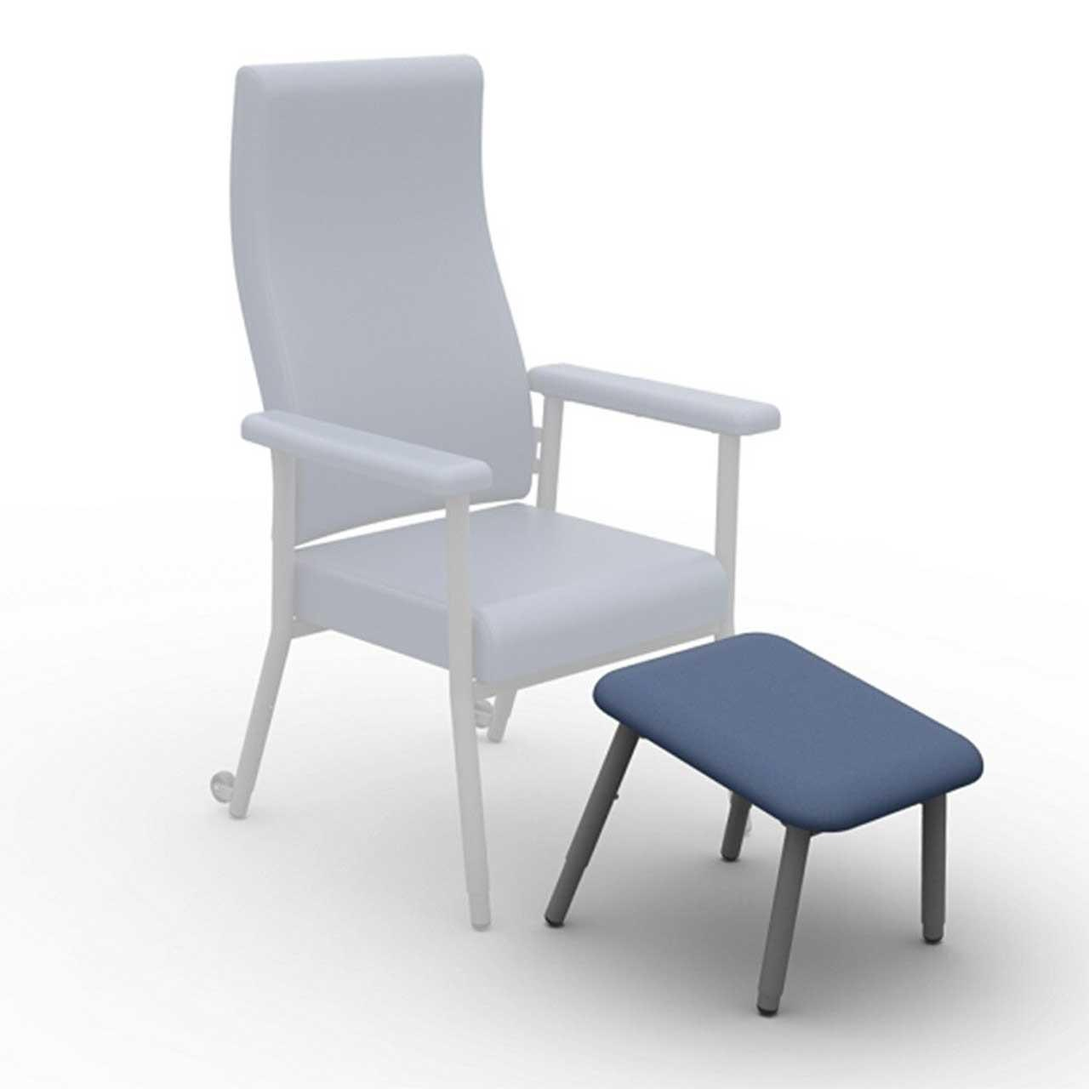chair: (210, 30, 779, 949)
stool: (540, 622, 983, 1027)
